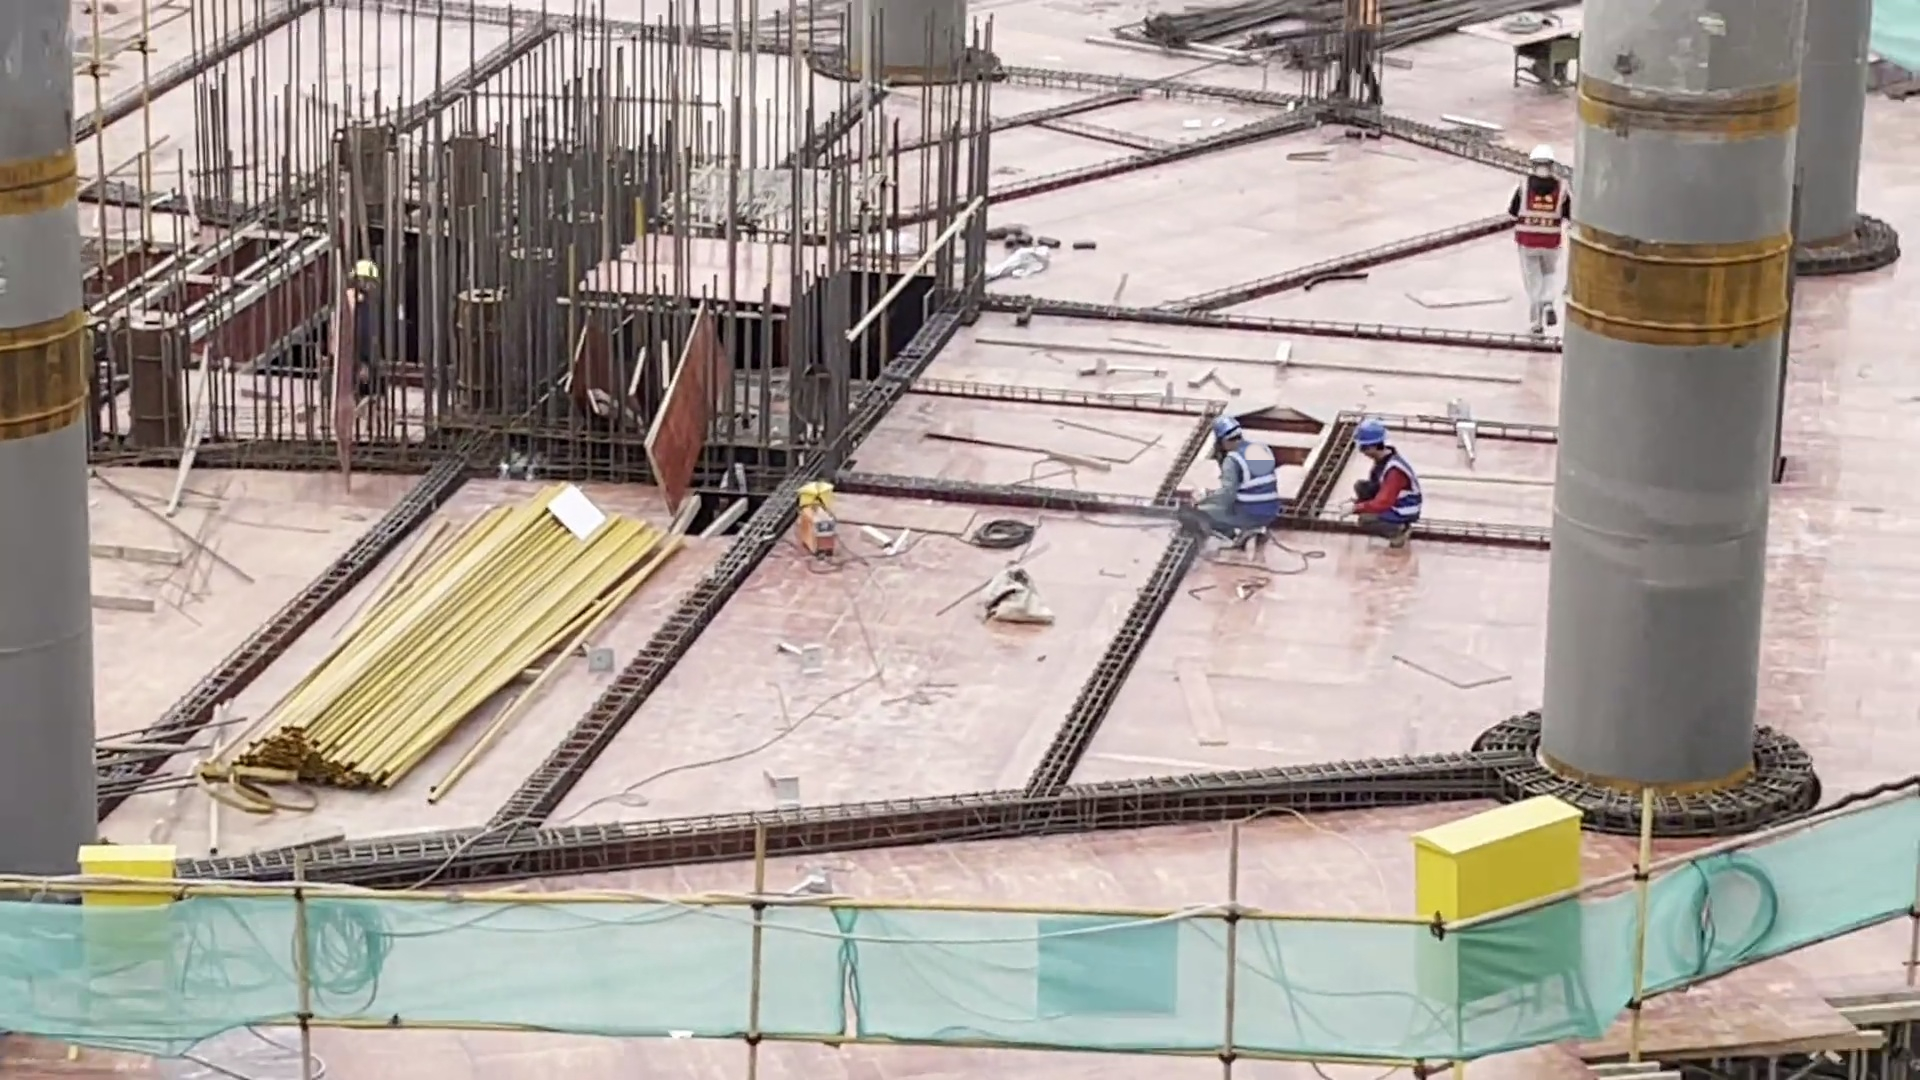ebox: (1411, 790, 1588, 1061), (75, 843, 182, 1034)
helmet: (1353, 418, 1389, 447), (1213, 415, 1240, 439), (1528, 145, 1555, 164)
person: (1504, 146, 1577, 352), (1191, 412, 1278, 554), (1337, 421, 1422, 550)
vest: (1219, 441, 1282, 524), (1507, 176, 1571, 252), (1364, 457, 1421, 527)
